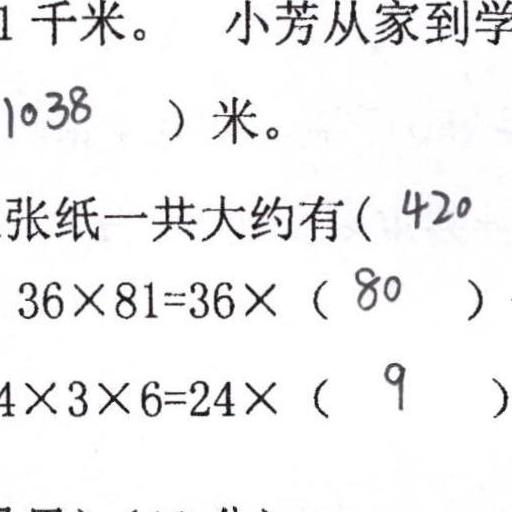ans: (0, 82, 96, 140), (396, 180, 471, 229), (348, 259, 400, 311), (377, 354, 409, 410)
